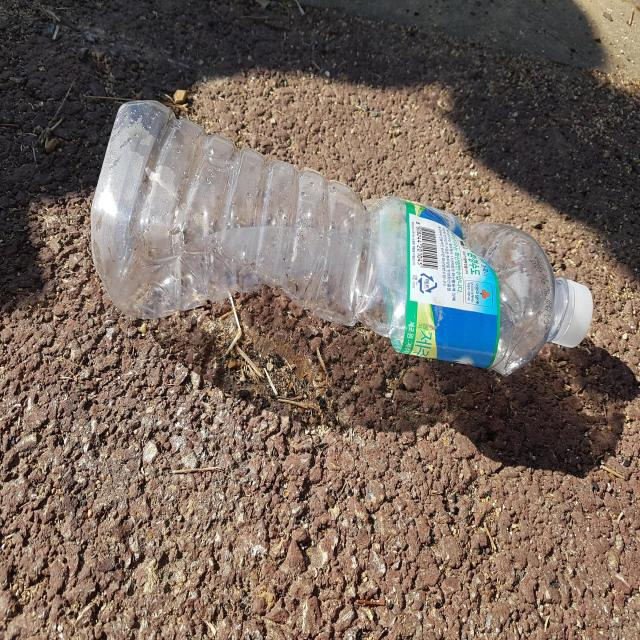plastic: (90, 100, 594, 375)
